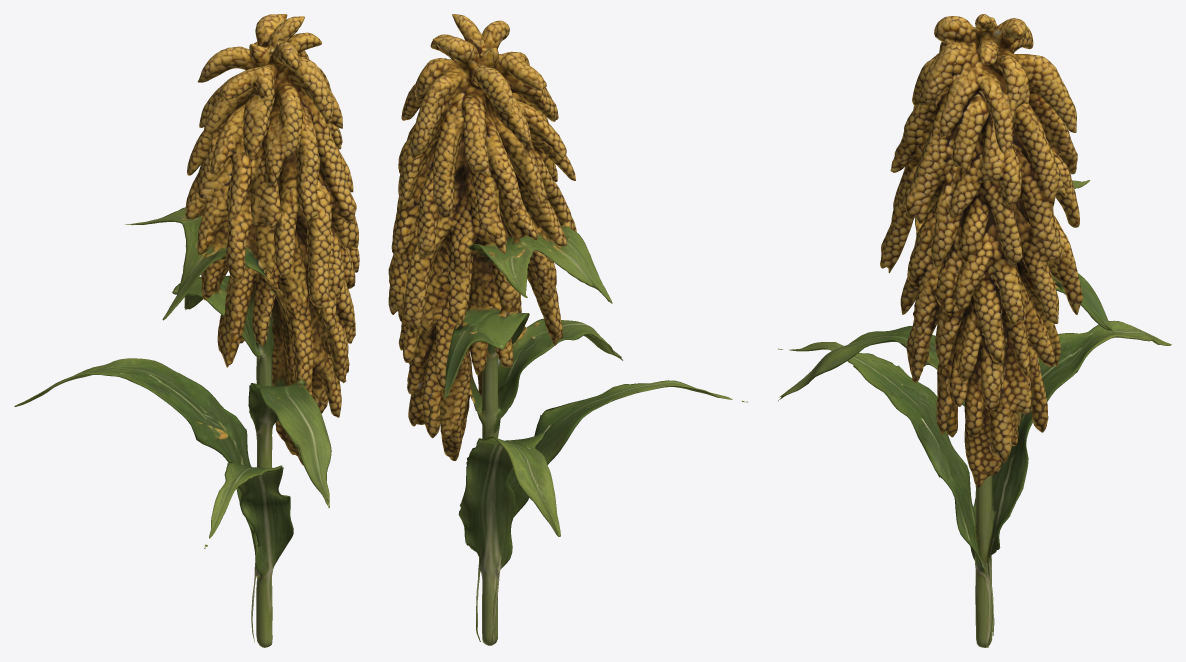
Rendered from 矮小麦_成熟_1.glb.
3 views of the same model, side by side, from view 1: azimuth 30°, elevation 25°; view 2: azimuth 150°, elevation 25°; view 3: azimuth 270°, elevation 25° (orthographic). The views are drawn at different scales.
Parts seen in each view (by area): view 1: tripo_node_f50462b1-bab1-48c8-bb38-4900c2449834; view 2: tripo_node_f50462b1-bab1-48c8-bb38-4900c2449834; view 3: tripo_node_f50462b1-bab1-48c8-bb38-4900c2449834.
Boxes of the visible parts, <box> form: tripo_node_f50462b1-bab1-48c8-bb38-4900c2449834: <box>14,14,359,647</box>; tripo_node_f50462b1-bab1-48c8-bb38-4900c2449834: <box>388,14,747,645</box>; tripo_node_f50462b1-bab1-48c8-bb38-4900c2449834: <box>778,14,1171,647</box>.
Size of the model in its own units: 0.4022 by 0.9721 by 0.5375.
1 material, 1 textured.
